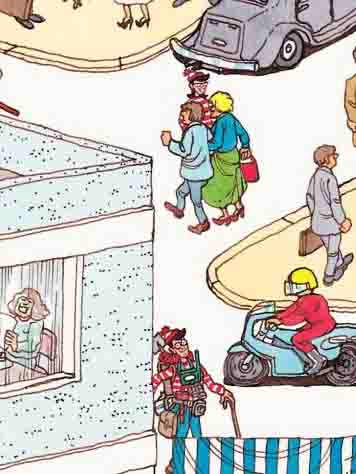waldo: (161, 326, 191, 358)
